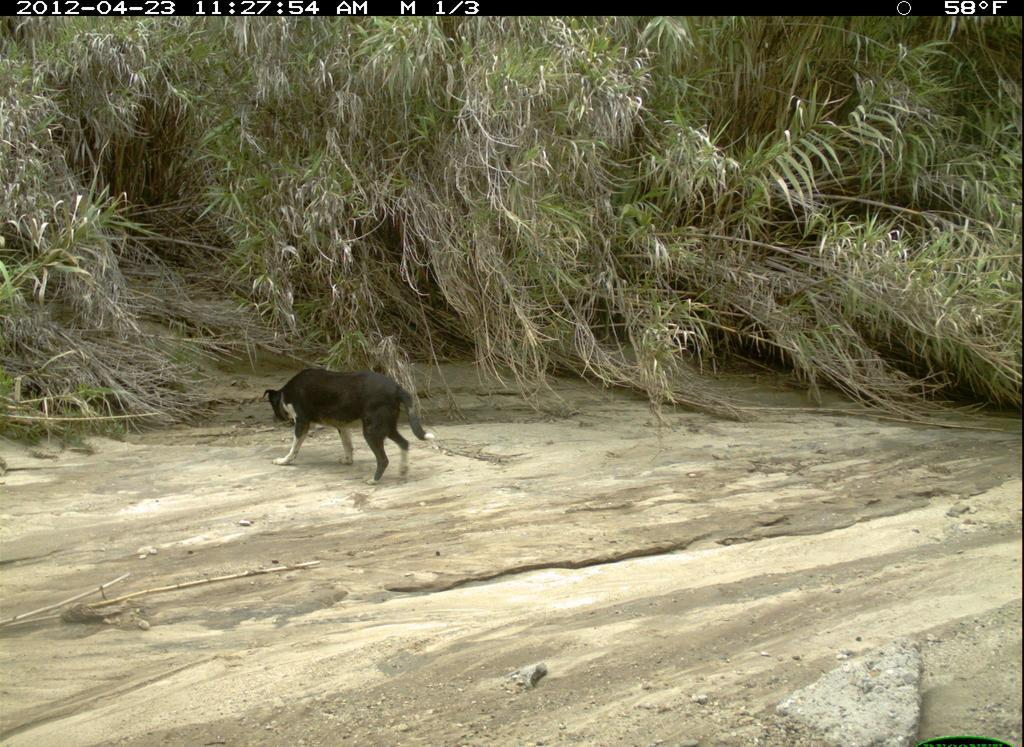dog: (242, 355, 441, 492)
